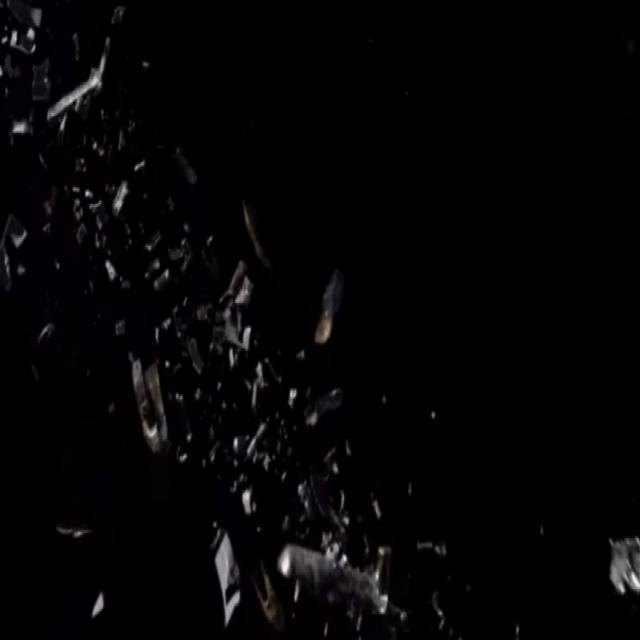large_debris: (276, 528, 394, 636), (42, 4, 130, 142), (193, 258, 261, 372), (306, 254, 359, 357), (131, 342, 174, 461), (206, 506, 243, 636), (0, 192, 30, 291)
